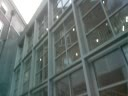window: (24, 3, 128, 95)
